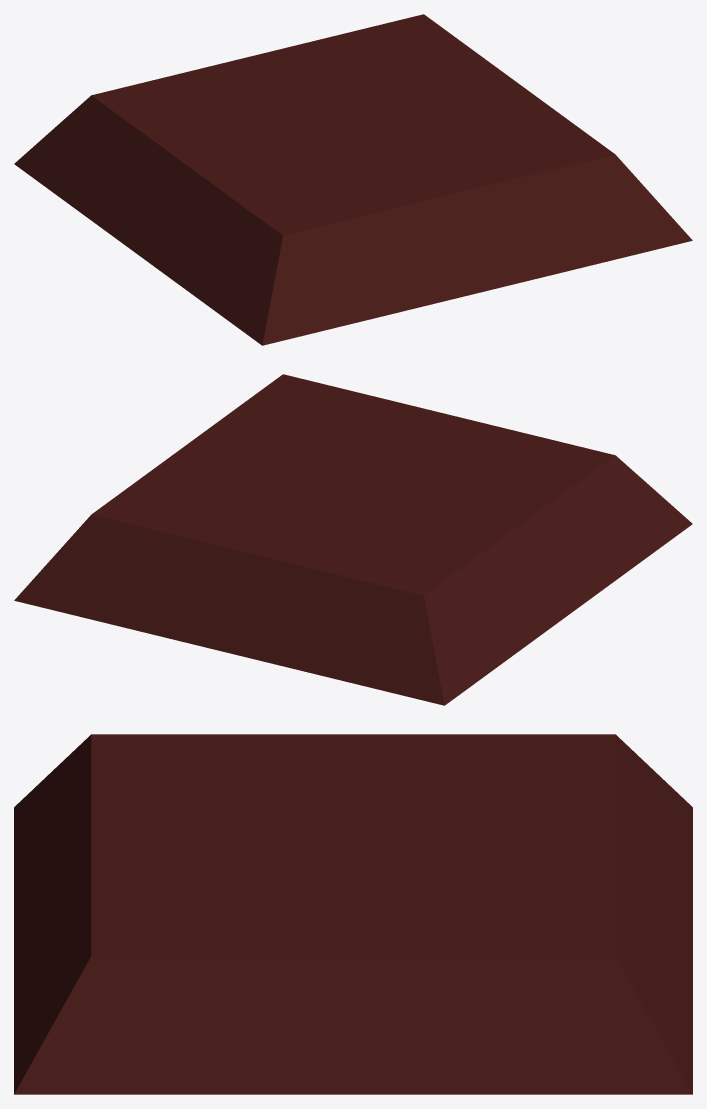
Rendered from Itr_Obj_Monitor_CRT_Base_02.FBX.
3 renders of one model, top to bottom at view 1: azimuth 30°, elevation 25°; view 2: azimuth 150°, elevation 25°; view 3: azimuth 270°, elevation 25°, orthographic. The views are drawn at different scales.
Visible parts, largest first — view 1: Itr_Obj_Monitor_CRT_Base_02; view 2: Itr_Obj_Monitor_CRT_Base_02; view 3: Itr_Obj_Monitor_CRT_Base_02.
Boxes of the visible parts, <box> form: Itr_Obj_Monitor_CRT_Base_02: <box>14,14,692,345</box>; Itr_Obj_Monitor_CRT_Base_02: <box>14,374,692,705</box>; Itr_Obj_Monitor_CRT_Base_02: <box>14,734,692,1094</box>.
Bounding box in the file's own units: 12.64 × 2.17 × 12.62.
